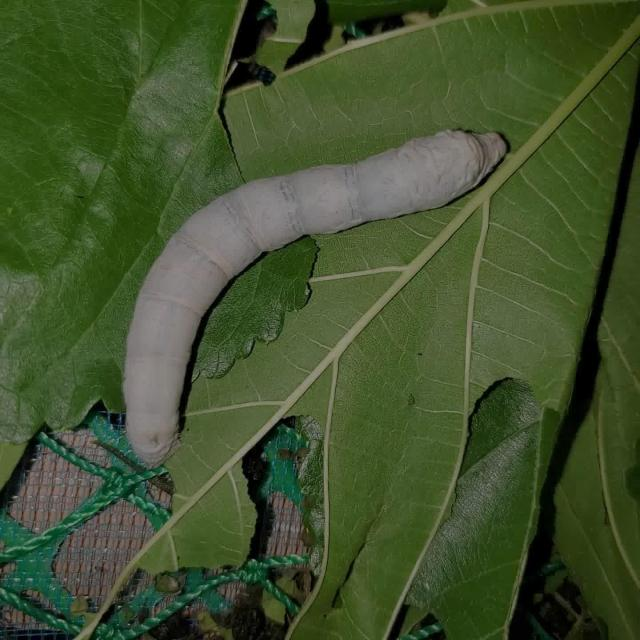Healthy: (93, 100, 526, 473)
